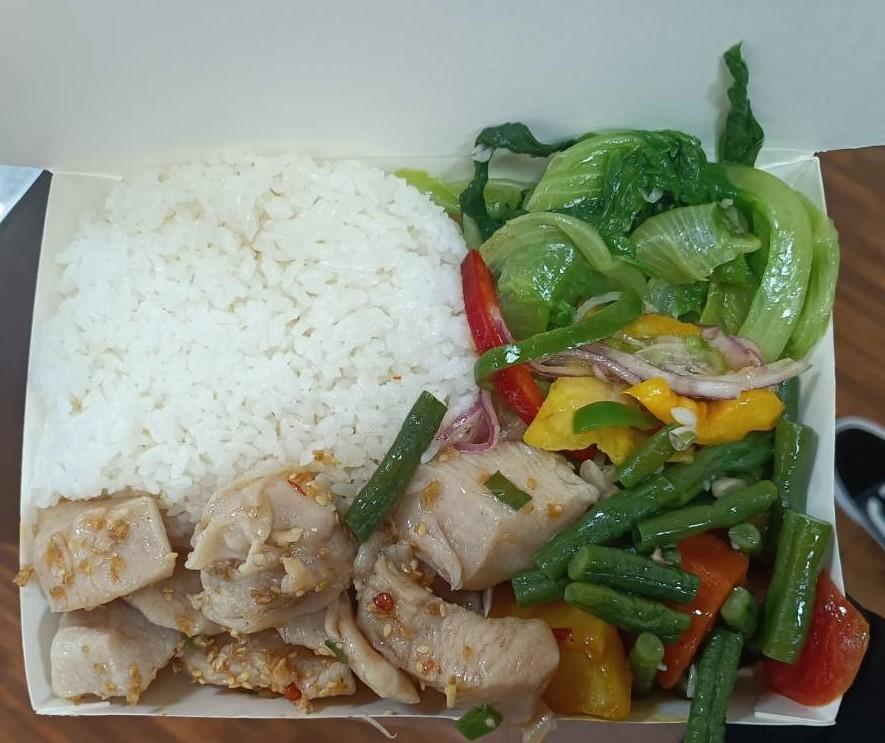big grilled chicken leg: (14, 155, 863, 740)
big herbal chicken leg: (50, 160, 472, 499)
braised fish fillet: (539, 419, 839, 714), (470, 127, 835, 347), (481, 315, 814, 452)
braised pork: (27, 437, 579, 712)
